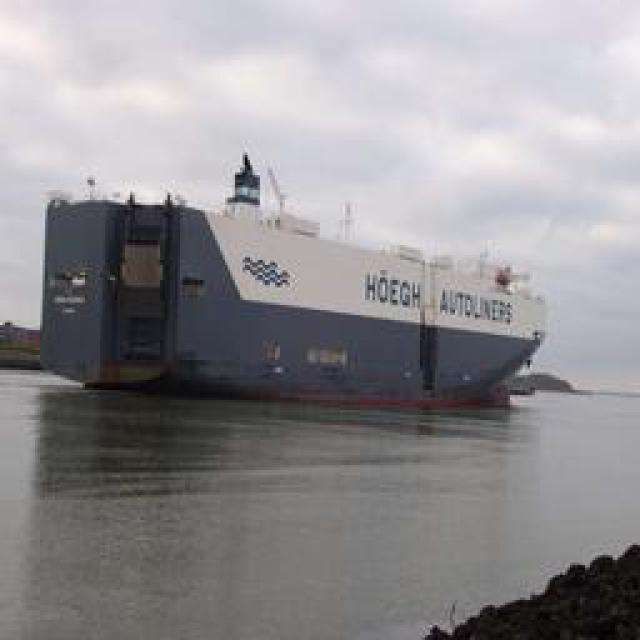Ship: (49, 143, 552, 401)
